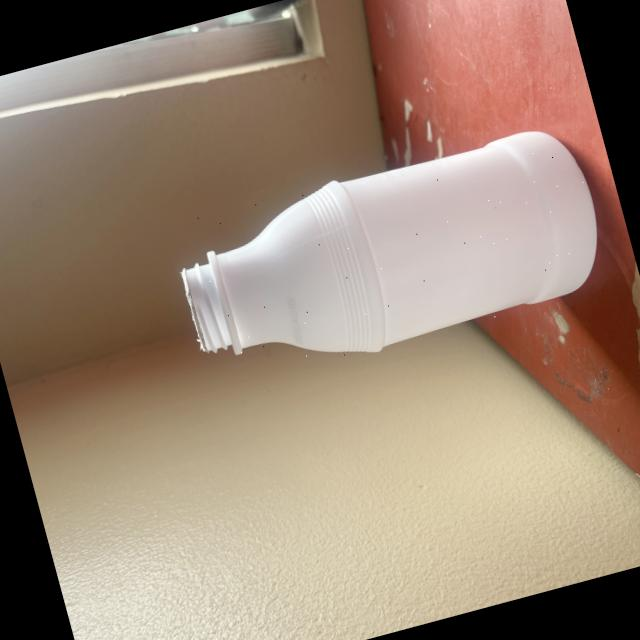HDPE_Bottle: (182, 131, 596, 352)
